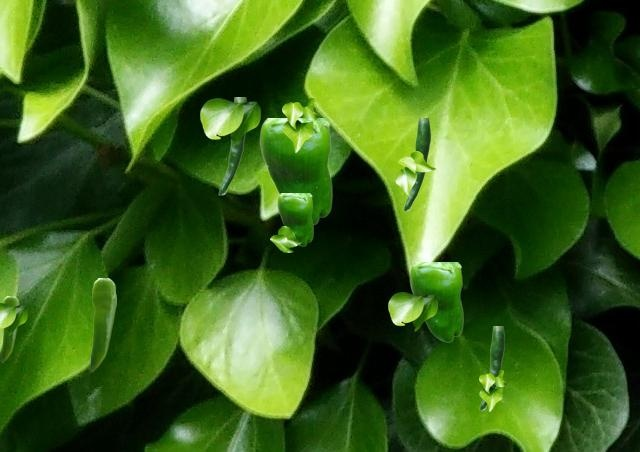green_chili: (259, 118, 331, 224), (409, 262, 462, 341), (218, 97, 246, 194), (403, 118, 429, 210), (90, 278, 115, 370), (479, 326, 503, 409), (277, 193, 312, 245), (1, 296, 18, 361)
